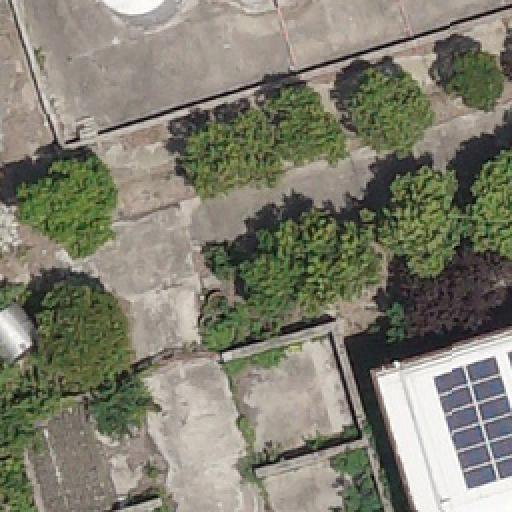solar-panel: (432, 354, 512, 490), (505, 351, 511, 369)
